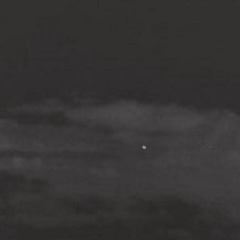Target: (140, 143, 148, 151)
